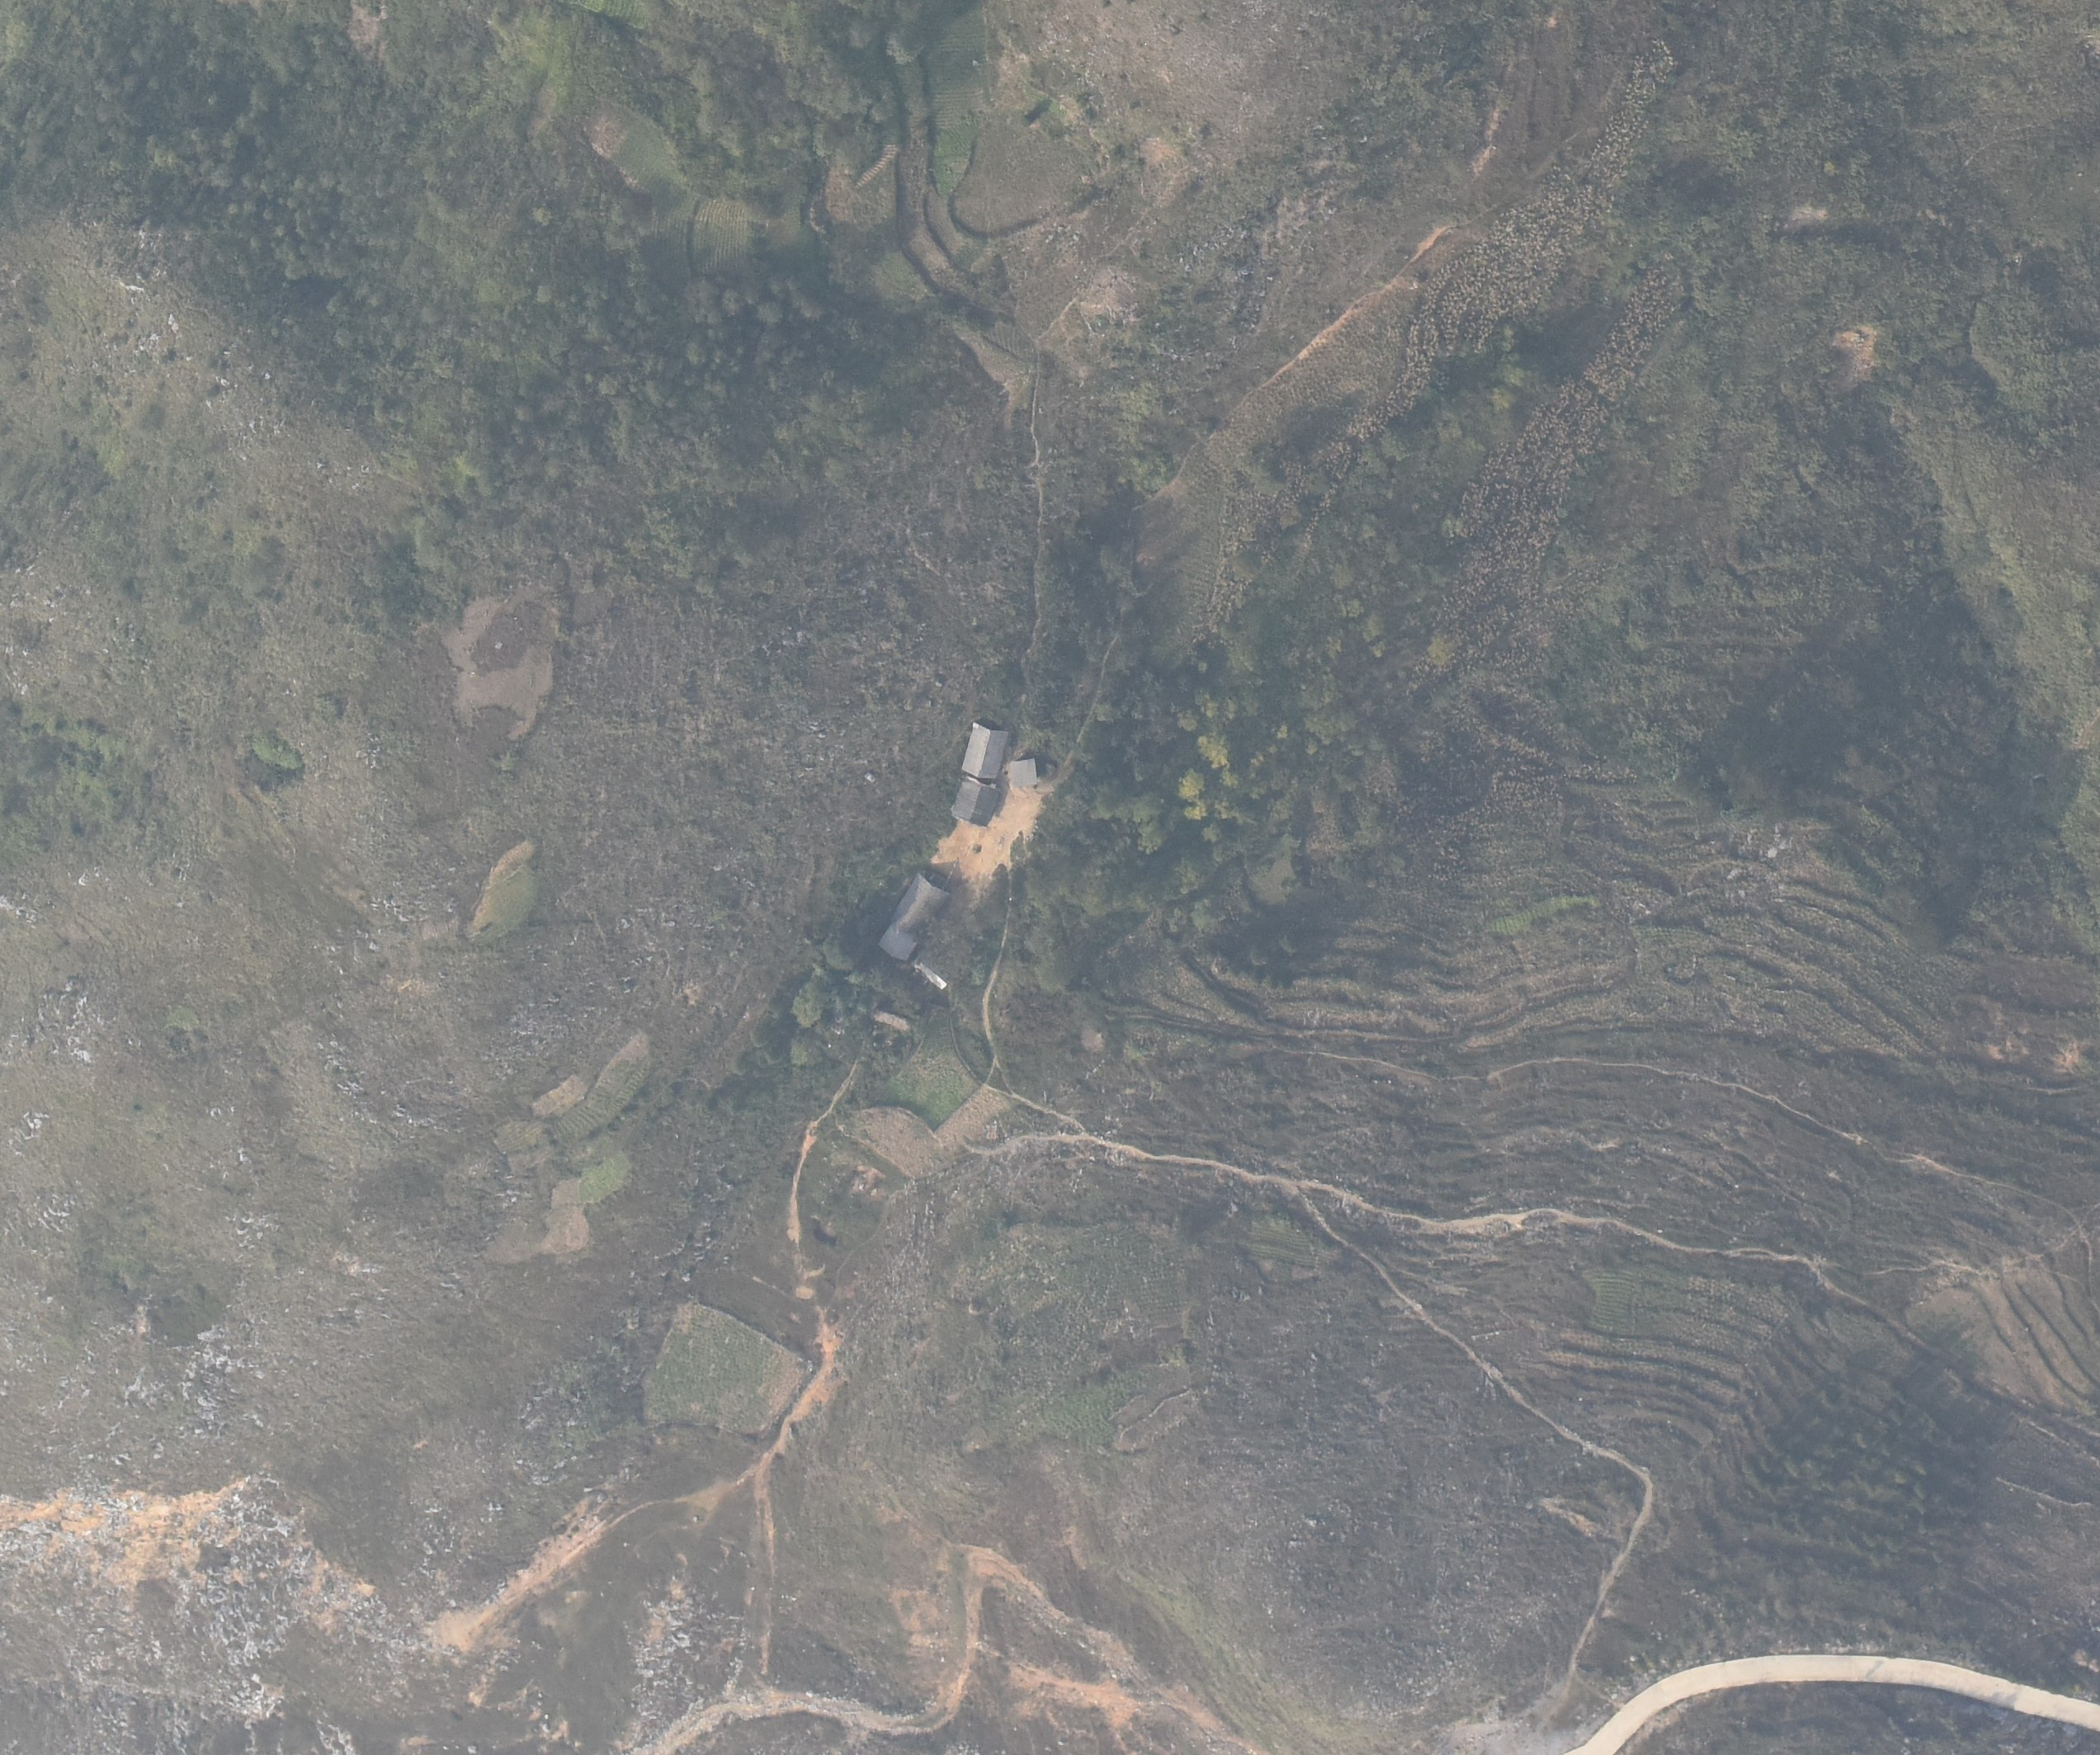building: (891, 872, 952, 937), (961, 722, 1010, 780), (951, 776, 1001, 827), (877, 925, 919, 961), (1010, 757, 1036, 789)
